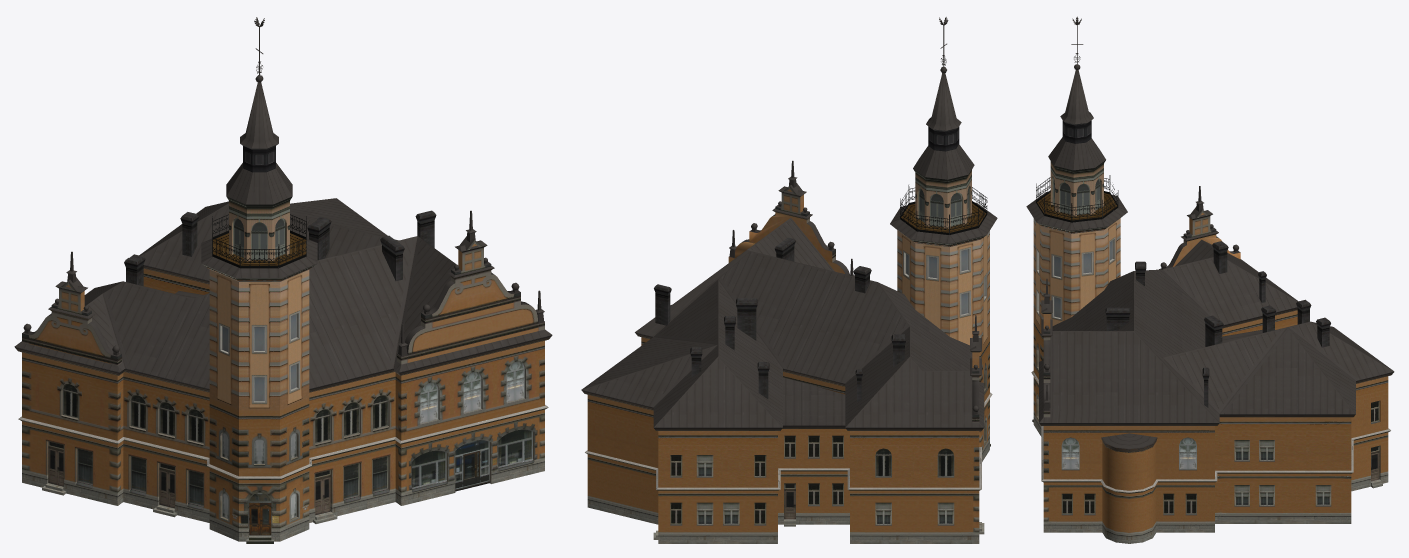
Rendered from kaupungintalo.fbx.
3 views of the same model, side by side, from view 1: azimuth 30°, elevation 25°; view 2: azimuth 150°, elevation 25°; view 3: azimuth 270°, elevation 25° (orthographic). The views are drawn at different scales.
Parts seen in each view (by area): view 1: Main; view 2: Main; view 3: Main.
Part boxes in pixels (x1,y1,x2,y2): Main: [14, 17, 552, 543]; Main: [581, 17, 997, 543]; Main: [1026, 16, 1394, 543].
Size of the model in its own units: 3688 by 4017 by 3264.
